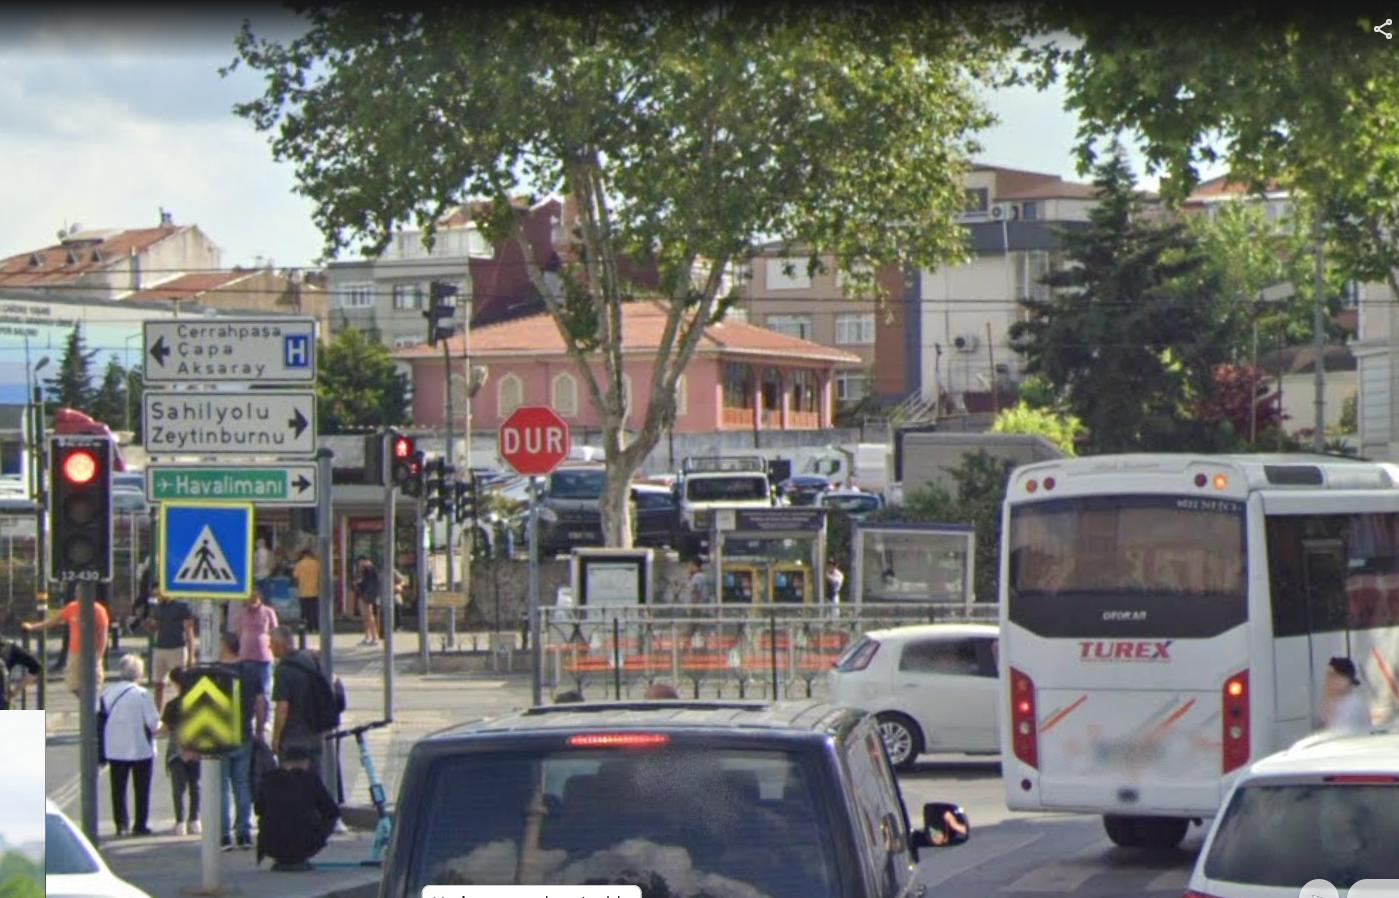redlight: (49, 438, 119, 583)
stop: (501, 407, 569, 478)
